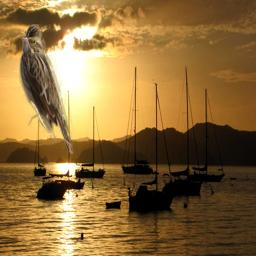Sparrow: (19, 24, 74, 154)
